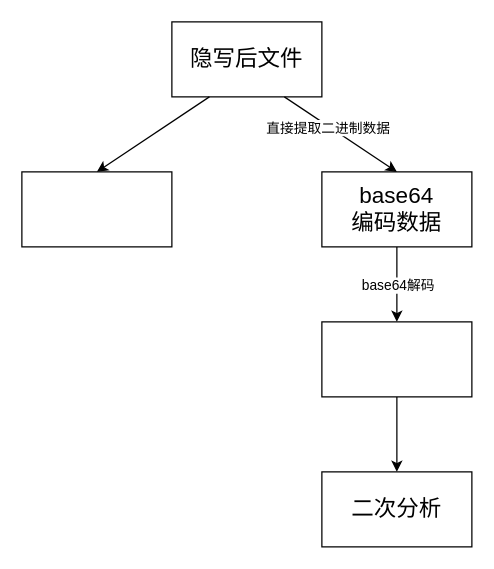
Some shapes in this 494 by 569 pixel diagram are drawn without their labels. Here are the shapes that lost their labels. From the top down, the centre of each, then its label:
At point 96,209: "JPEG图像".
At point 396,359: "原始数据".
